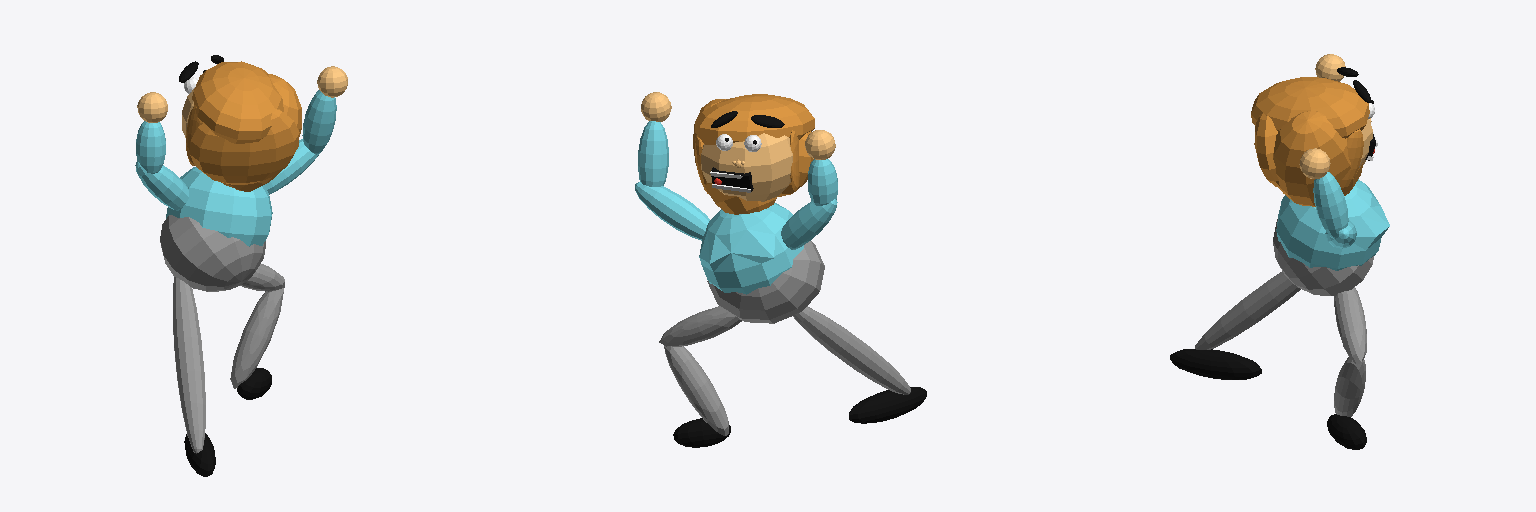
3 renders of one model, left to right at view 1: azimuth 30°, elevation 25°; view 2: azimuth 150°, elevation 25°; view 3: azimuth 270°, elevation 25°, orthographic.
Parts seen in each view (by area): view 1: group[number redacted], group[number redacted], group[number redacted], group[number redacted], group[number redacted], group[number redacted], group[number redacted], group[number redacted], group[number redacted], group[number redacted], group[number redacted], group[number redacted] (+4 smaller); view 2: group[number redacted], group[number redacted], group[number redacted], group[number redacted], group[number redacted], group[number redacted], group[number redacted], group[number redacted], group[number redacted], group[number redacted], group[number redacted], group[number redacted] (+5 smaller); view 3: group[number redacted], group[number redacted], group[number redacted], group[number redacted], group[number redacted], group[number redacted], group[number redacted], group[number redacted], group[number redacted], group[number redacted], group[number redacted], group[number redacted] (+2 smaller).
Boxes of the visible parts, <box> form: group[number redacted]: <box>192,61,283,143</box>; group[number redacted]: <box>160,215,265,291</box>; group[number redacted]: <box>190,109,299,184</box>; group[number redacted]: <box>166,167,272,246</box>; group[number redacted]: <box>173,277,205,453</box>; group[number redacted]: <box>230,288,283,388</box>; group[number redacted]: <box>302,90,336,154</box>; group[number redacted]: <box>135,162,188,210</box>; group[number redacted]: <box>136,121,165,173</box>; group[number redacted]: <box>221,74,301,191</box>; group[number redacted]: <box>264,139,319,194</box>; group[number redacted]: <box>184,433,215,476</box>; group[number redacted]: <box>699,203,803,294</box>; group[number redacted]: <box>707,241,824,323</box>; group[number redacted]: <box>695,94,814,144</box>; group[number redacted]: <box>701,133,792,201</box>; group[number redacted]: <box>793,306,910,394</box>; group[number redacted]: <box>664,346,728,435</box>; group[number redacted]: <box>635,182,709,240</box>; group[number redacted]: <box>659,306,741,346</box>; group[number redacted]: <box>849,387,926,423</box>; group[number redacted]: <box>638,121,668,186</box>; group[number redacted]: <box>781,199,837,249</box>; group[number redacted]: <box>808,159,837,205</box>; group[number redacted]: <box>1276,179,1389,270</box>; group[number redacted]: <box>1251,77,1369,138</box>; group[number redacted]: <box>1273,111,1363,206</box>; group[number redacted]: <box>1195,271,1300,349</box>; group[number redacted]: <box>1273,219,1373,295</box>; group[number redacted]: <box>1170,349,1261,379</box>; group[number redacted]: <box>1334,287,1366,364</box>; group[number redacted]: <box>1313,172,1348,238</box>; group[number redacted]: <box>1334,357,1365,416</box>; group[number redacted]: <box>1254,113,1279,186</box>; group[number redacted]: <box>1327,414,1366,449</box>; group[number redacted]: <box>1299,148,1330,178</box>.
Size of the model in its own units: 1.11 by 1.71 by 0.9861.